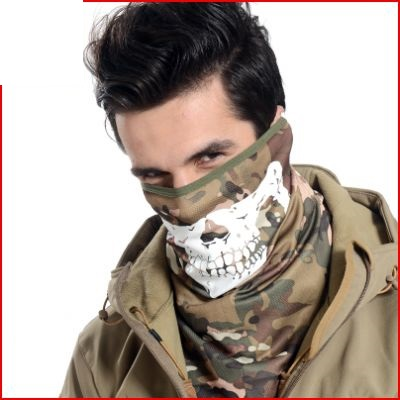face_mask: (119, 86, 264, 258)
